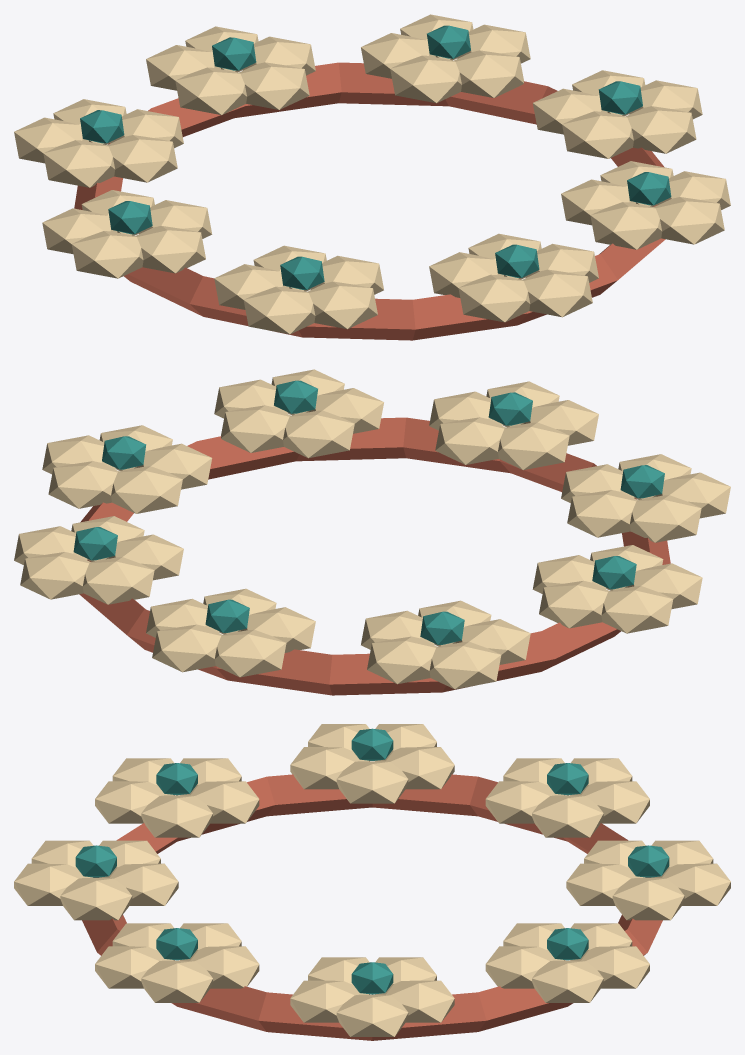
The model's file is outfit_flower_crown.glb.
The picture shows the model from 3 angles, top to bottom: view 1: azimuth 30°, elevation 25°; view 2: azimuth 150°, elevation 25°; view 3: azimuth 270°, elevation 25°; orthographic projection. The views are drawn at different scales.
Visible parts, largest first — view 1: vine, petal.003, petal.023, petal.013, petal.028, petal.033, petal.008, petal.018, petal.038, petal.019, petal.034, petal.014 (+37 smaller); view 2: vine, petal.002, petal.022, petal.012, petal.017, petal.032, petal.037, petal.007, petal.027, petal.011, petal.026, petal.006 (+37 smaller); view 3: vine, petal.010, petal.020, petal.030, petal.015, petal.025, petal.005, petal.035, petal, petal.019, petal.026, petal.016 (+37 smaller).
Boxes of the visible parts, left/top/right/bottom form: vine: left=74, top=62, right=665, bottom=340; petal.003: left=562, top=111, right=633, bottom=158; petal.023: left=71, top=231, right=143, bottom=278; petal.013: left=175, top=67, right=246, bottom=115; petal.028: left=243, top=286, right=315, bottom=334; petal.033: left=458, top=274, right=530, bottom=322; petal.008: left=390, top=55, right=461, bottom=103; petal.018: left=43, top=140, right=115, bottom=187; petal.038: left=590, top=202, right=662, bottom=249; petal.019: left=107, top=135, right=177, bottom=182; petal.034: left=522, top=269, right=592, bottom=317; petal.014: left=239, top=62, right=309, bottom=109; vine: left=79, top=417, right=670, bottom=695; petal.002: left=111, top=466, right=182, bottom=513; petal.022: left=601, top=586, right=673, bottom=633; petal.012: left=214, top=629, right=286, bottom=677; petal.017: left=429, top=641, right=501, bottom=689; petal.032: left=498, top=422, right=569, bottom=470; petal.037: left=283, top=410, right=354, bottom=458; petal.007: left=82, top=557, right=154, bottom=604; petal.027: left=629, top=495, right=701, bottom=542; petal.011: left=152, top=624, right=222, bottom=672; petal.026: left=567, top=490, right=637, bottom=537; petal.006: left=20, top=552, right=90, bottom=599; vine: left=82, top=774, right=662, bottom=1040; petal.010: left=612, top=878, right=684, bottom=920; petal.020: left=336, top=761, right=408, bottom=803; petal.030: left=60, top=878, right=132, bottom=920; petal.015: left=532, top=795, right=603, bottom=837; petal.025: left=141, top=795, right=212, bottom=837; petal.005: left=532, top=960, right=603, bottom=1002; petal.035: left=141, top=960, right=212, bottom=1002; petal: left=336, top=994, right=408, bottom=1036; petal.019: left=485, top=781, right=554, bottom=823; petal.026: left=190, top=781, right=259, bottom=823; petal.016: left=581, top=781, right=649, bottom=823.
Size of the model in its own units: 0.8816 by 0.107 by 0.8826.
